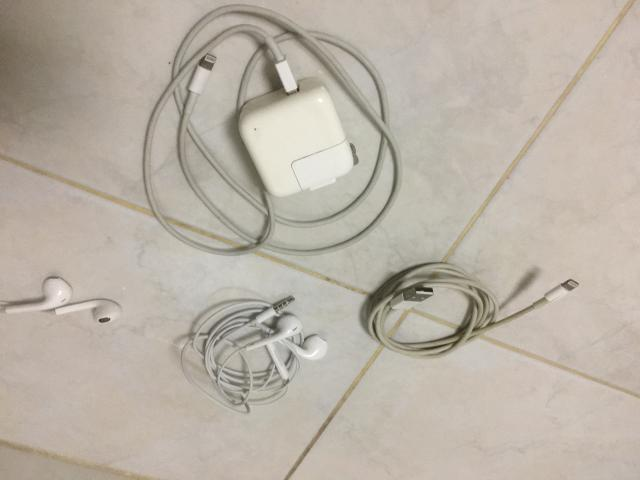wire: (142, 5, 402, 256), (368, 262, 579, 358), (181, 298, 328, 412), (4, 278, 121, 324)
